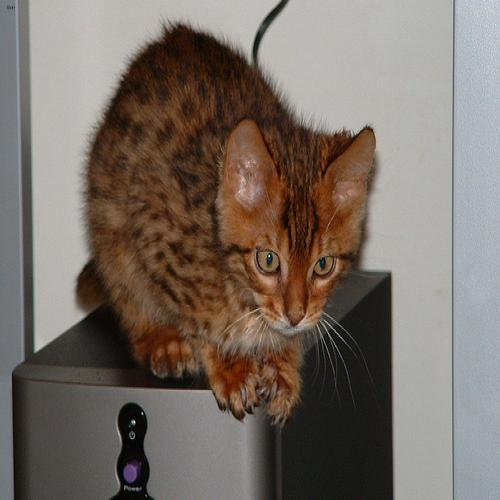bengal: (214, 109, 390, 350)
